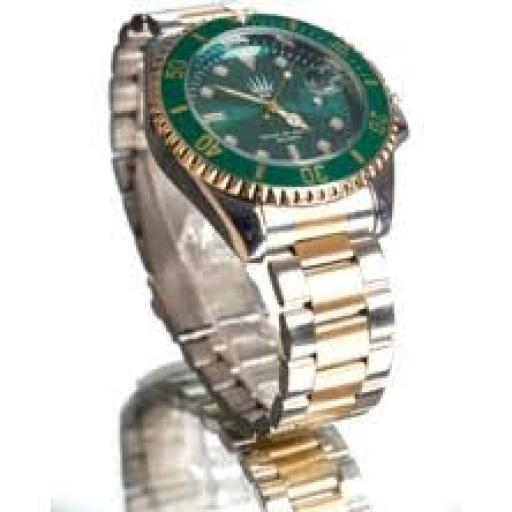KolSaati: (82, 10, 414, 438)
